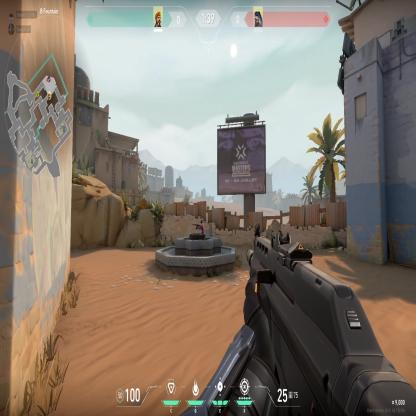enemy: (199, 220, 205, 234)
